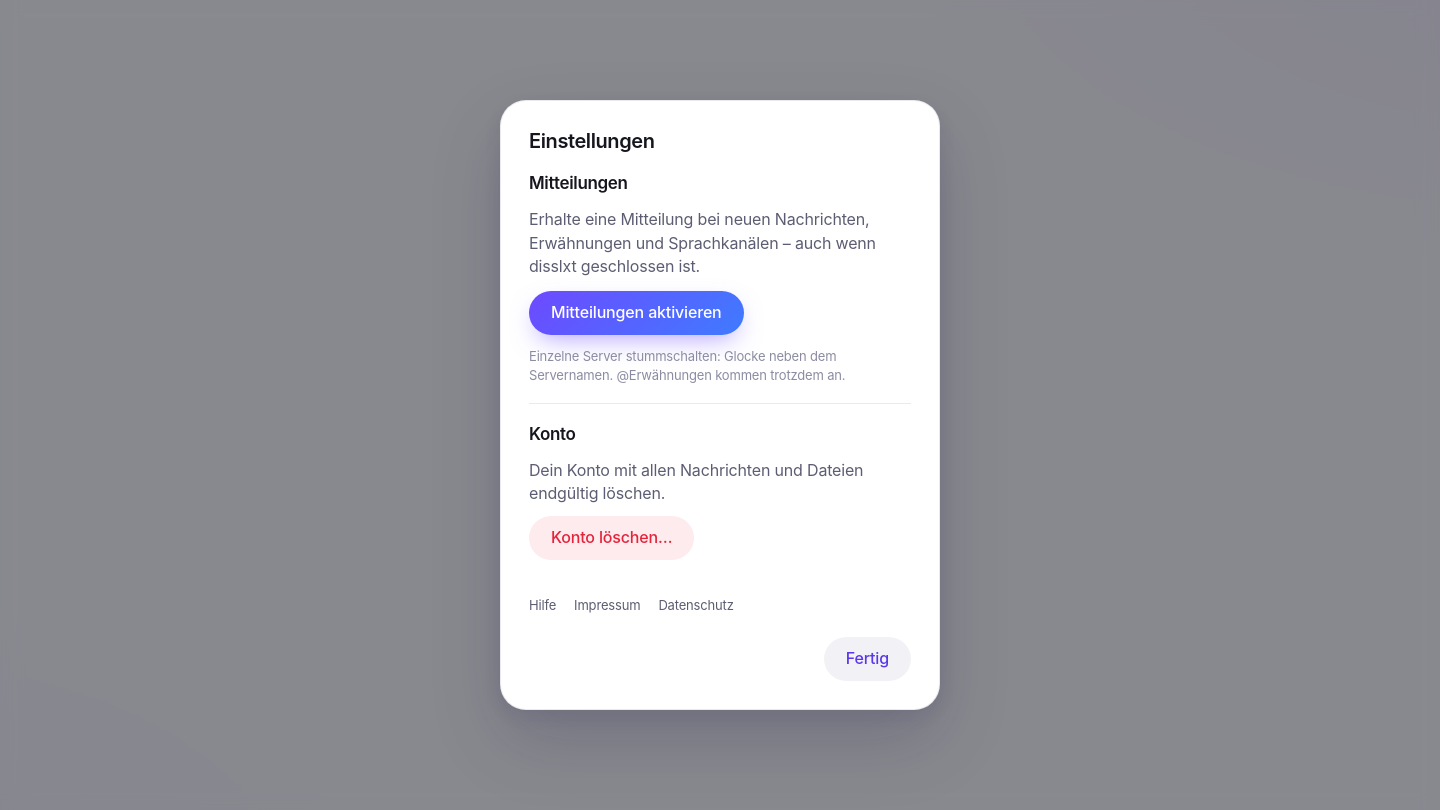
it: SettingsDialog › the permission prompt only appears after the click on "Mitteilungen aktivieren"
The width and height of the screenshot is (1440, 810).
What coordinates should you click on to do the following:
click the button with test id "push-enable"
I would click on:
 (636, 313)
Its box is [529,291,744,335].
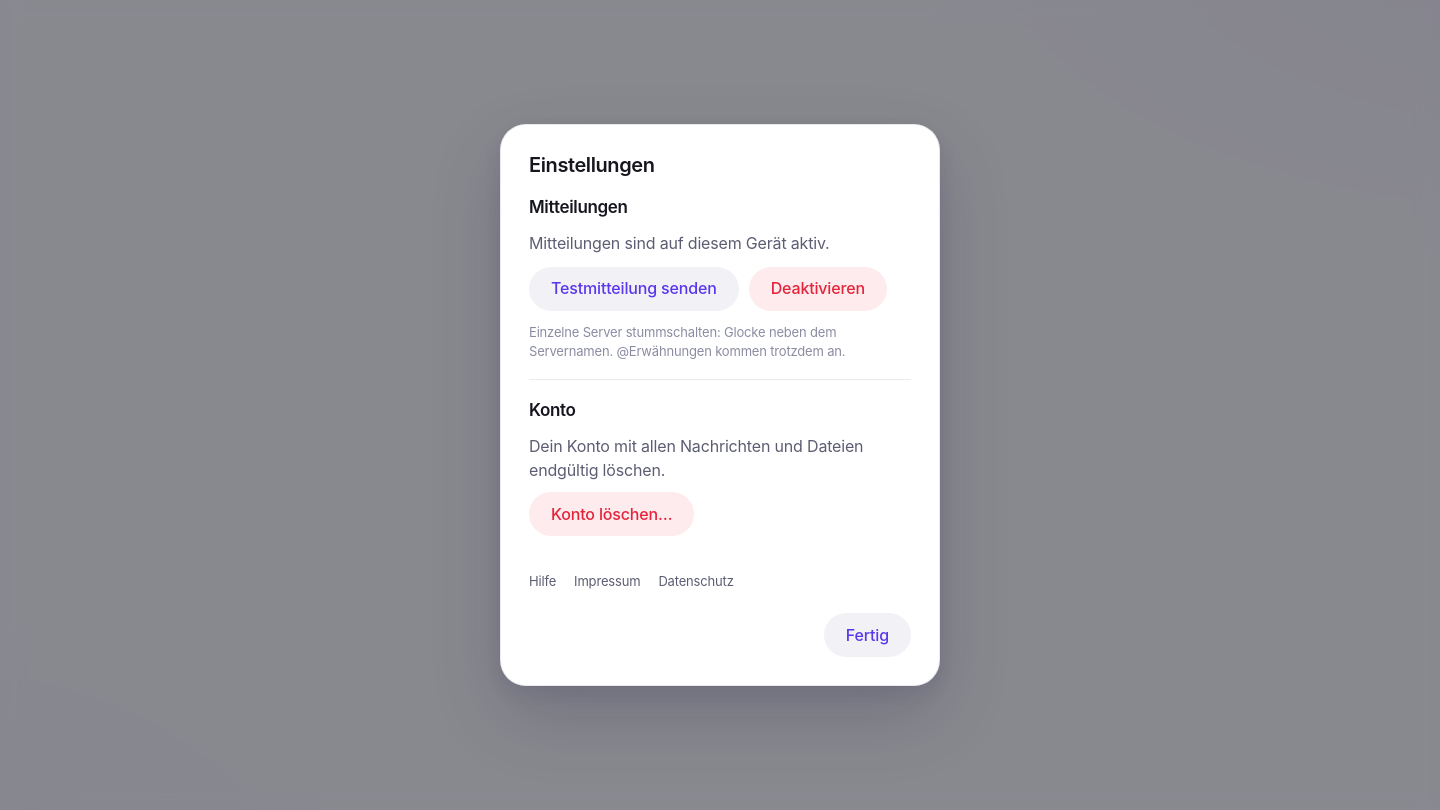
Result: the text with test id "push-state" has attribute data-state="on" at [529,233,830,253]
What coordinates should you click on to do the following:
click the button with test id "push-test"
I would click on:
 (634, 289)
Its box is [529,267,739,311].
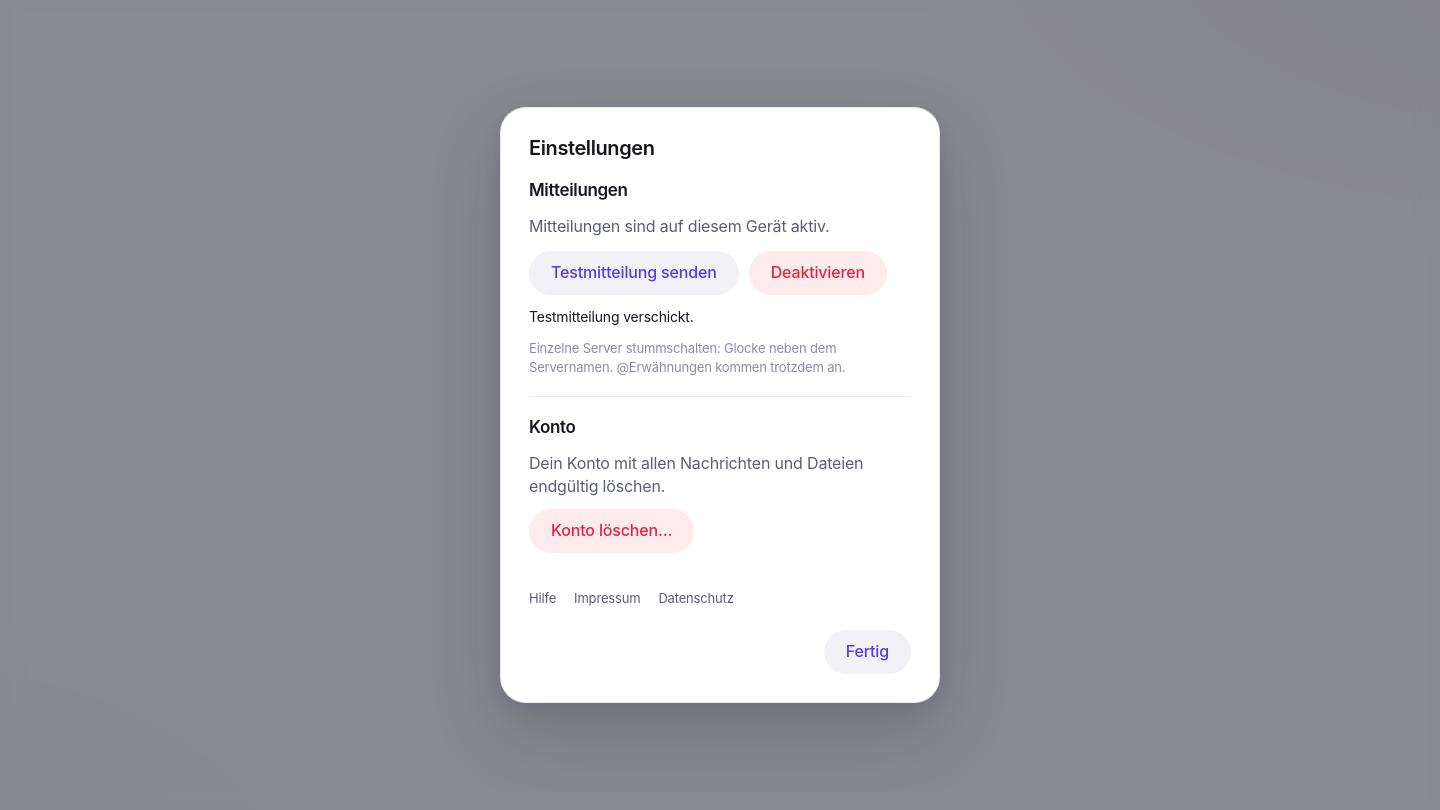
Result: the text "Testmitteilung verschickt." is shown at [529,308,694,325]
